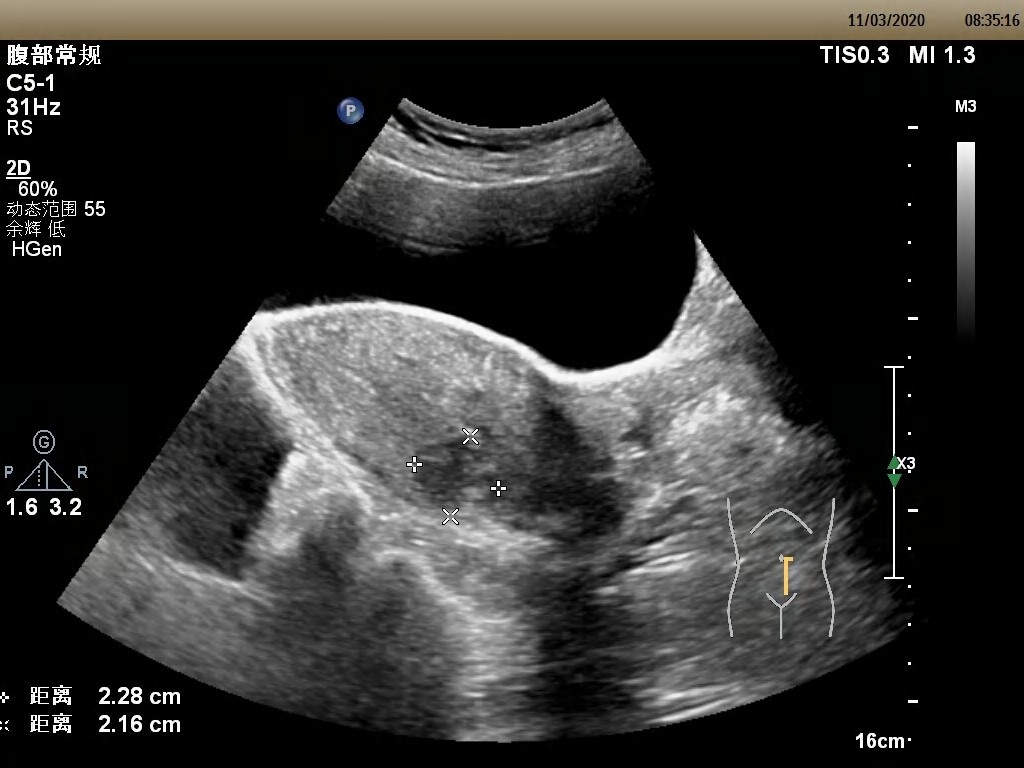肌瘤: (411, 438, 491, 505)
